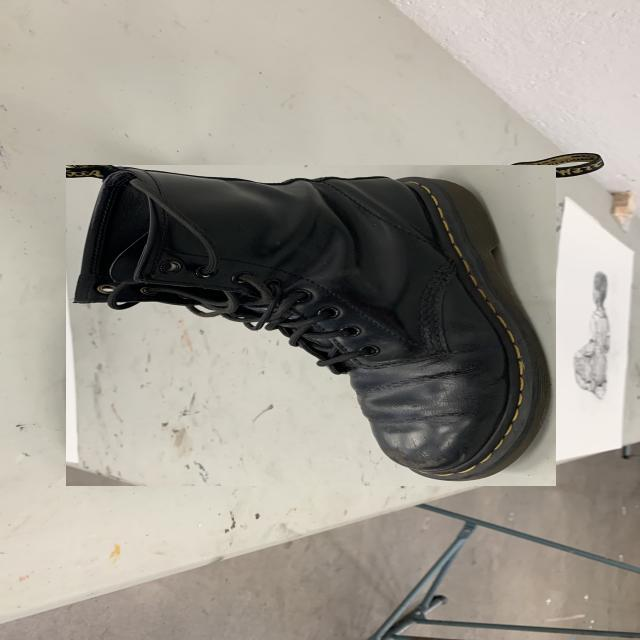shoe: (66, 165, 556, 486)
